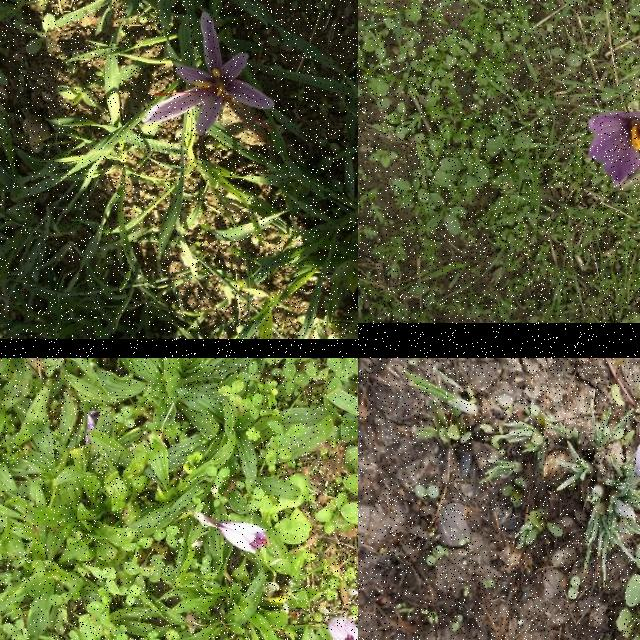flower: (142, 12, 274, 136), (588, 111, 640, 189), (218, 521, 270, 555), (326, 615, 358, 640)
